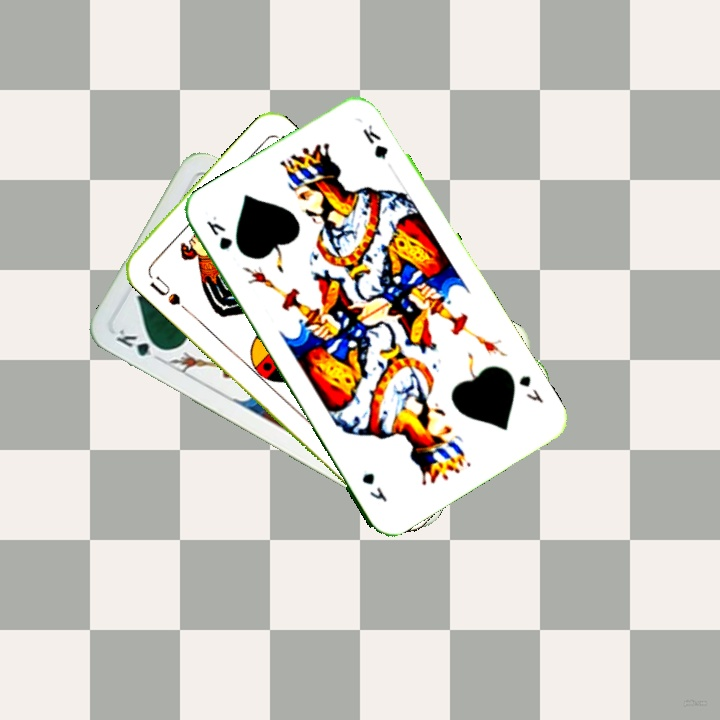GK: (111, 324, 168, 364), (202, 212, 235, 255), (515, 371, 546, 406)
SU: (143, 268, 183, 308)
